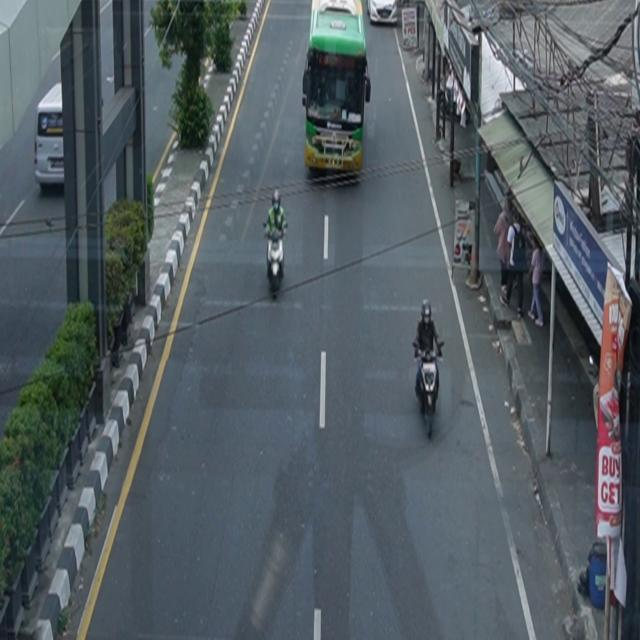bus: (302, 1, 372, 182)
car: (35, 82, 65, 190), (367, 1, 398, 26)
